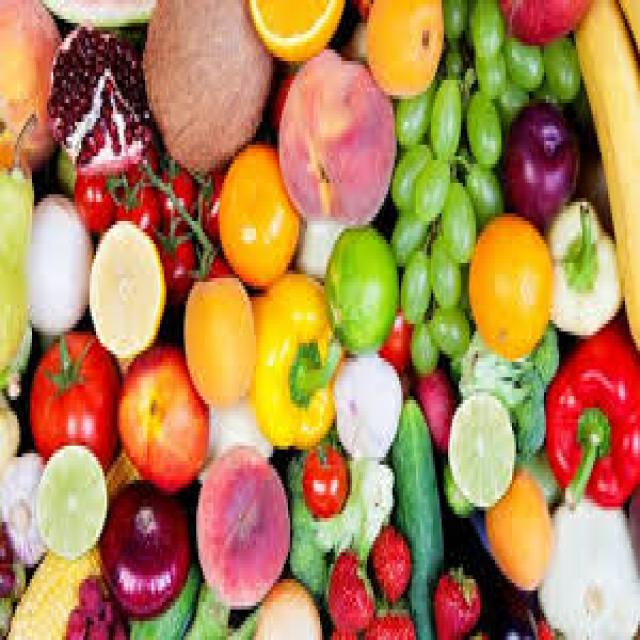organic waste: (0, 0, 638, 636), (4, 446, 143, 636), (574, 0, 638, 343), (141, 0, 269, 168), (275, 46, 393, 221), (540, 316, 638, 511), (282, 442, 392, 598), (248, 267, 342, 442), (44, 19, 154, 168), (192, 446, 288, 610), (537, 492, 638, 636), (454, 320, 555, 453), (98, 476, 192, 617), (28, 324, 119, 468), (115, 339, 201, 491), (392, 389, 442, 636), (467, 206, 548, 354), (88, 213, 166, 362), (218, 141, 298, 286), (544, 194, 619, 328), (0, 0, 58, 164), (482, 461, 553, 594), (324, 221, 397, 350), (183, 274, 254, 404), (310, 457, 392, 568), (26, 190, 88, 332), (32, 442, 107, 556), (512, 99, 576, 221), (444, 388, 510, 506), (360, 0, 440, 95), (331, 351, 401, 457), (0, 110, 28, 374), (128, 556, 203, 636), (568, 103, 614, 225), (245, 0, 343, 53), (0, 446, 45, 560), (203, 392, 273, 458), (181, 575, 254, 636), (64, 568, 126, 636), (252, 575, 320, 636), (320, 545, 371, 625), (42, 0, 155, 34), (301, 438, 350, 514), (414, 366, 452, 453), (433, 560, 476, 636), (367, 522, 407, 602), (499, 0, 593, 34), (109, 164, 156, 232), (154, 144, 192, 228), (510, 434, 559, 499), (438, 175, 472, 259), (456, 144, 502, 206), (429, 69, 461, 156), (158, 221, 192, 301), (463, 84, 499, 156), (426, 228, 458, 308), (390, 141, 429, 206), (442, 449, 476, 522), (540, 34, 578, 99), (0, 389, 19, 514), (424, 301, 472, 350), (73, 172, 115, 228), (0, 320, 30, 396), (396, 248, 426, 320), (393, 84, 433, 137), (503, 31, 540, 88), (363, 598, 414, 636), (390, 206, 429, 255), (380, 304, 407, 370), (468, 0, 502, 50), (472, 46, 506, 95), (414, 156, 450, 202), (491, 72, 527, 118), (408, 312, 435, 370), (196, 164, 220, 228), (192, 240, 230, 278), (53, 133, 75, 194), (627, 488, 638, 606), (616, 0, 638, 57), (77, 568, 104, 613), (440, 34, 467, 76), (269, 72, 290, 122), (439, 0, 467, 34), (524, 606, 554, 636), (497, 610, 531, 636), (501, 579, 525, 610), (8, 560, 26, 594), (66, 602, 83, 636), (0, 522, 11, 564), (132, 141, 152, 164), (463, 617, 486, 636), (0, 560, 13, 590), (330, 625, 362, 636), (86, 617, 104, 636), (0, 598, 9, 636), (108, 614, 122, 636), (100, 598, 115, 617), (352, 0, 371, 11)
